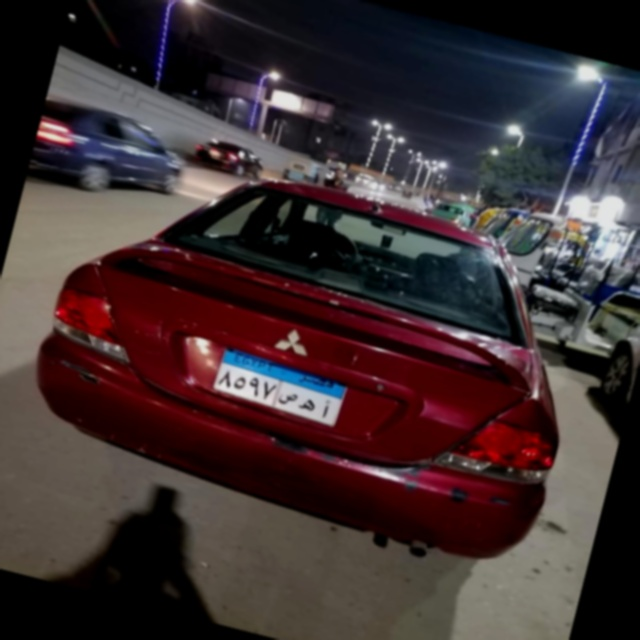License Plate: (208, 345, 352, 430)
